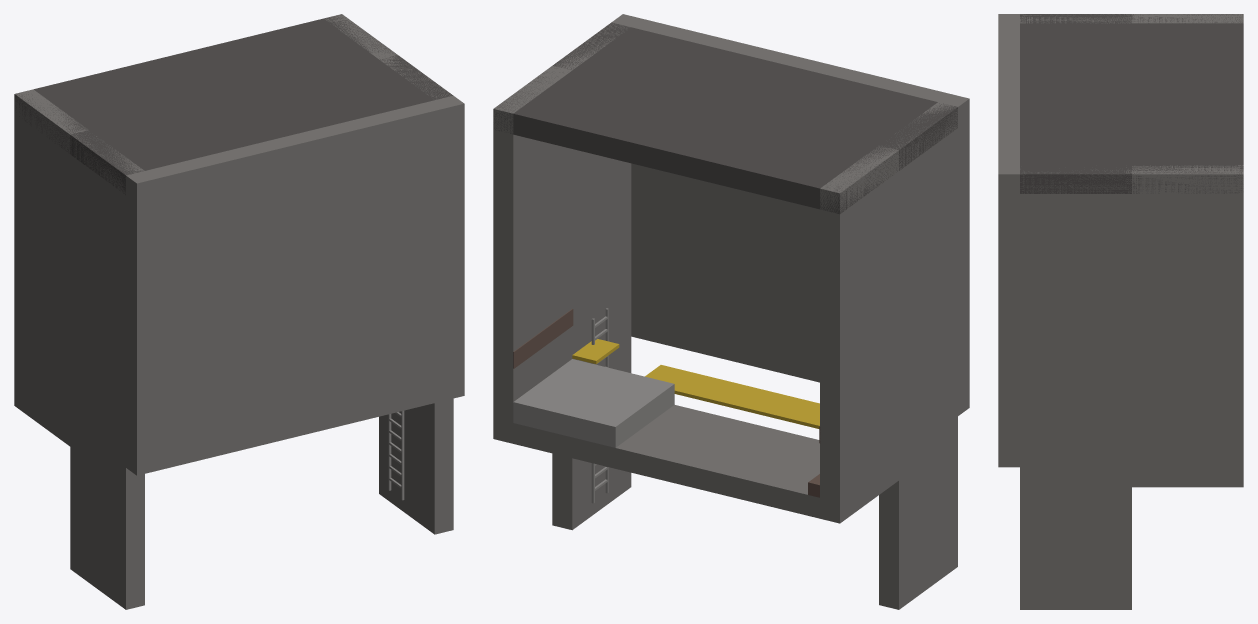
The model's file is B_culvert_drop.glb.
3 renders of one model, left to right at view 1: azimuth 30°, elevation 25°; view 2: azimuth 150°, elevation 25°; view 3: azimuth 270°, elevation 25°, orthographic. The views are drawn at different scales.
Parts seen in each view (by area): view 1: hexa.011, hexa.009, hexa.008, hexa.003, hexa.007, hexa.010, hexa, hexa.005; view 2: hexa.011, hexa.009, hexa.007, hexa.003, hexa.008, hexa.005, hexa, hexa.010, hexa.002, Cube.017, hexa.006, Cube.016; view 3: hexa.010, hexa.005, hexa.008, hexa.007, hexa.011, hexa, hexa.003, hexa.009.
Part boxes in pixels (x1,y1,x2,y2): hexa.011: (126, 95, 464, 475); hexa.009: (70, 132, 144, 609); hexa.008: (70, 55, 452, 194); hexa.003: (14, 89, 88, 444); hexa.007: (15, 14, 395, 153); hexa.010: (379, 55, 453, 534); hexa: (14, 386, 70, 446); hexa.005: (325, 14, 397, 59); hexa.011: (611, 14, 969, 415); hexa.009: (879, 102, 957, 609); hexa.007: (493, 66, 898, 214); hexa.003: (820, 146, 898, 523); hexa.008: (553, 22, 957, 170); hexa.005: (493, 65, 572, 440); hexa: (493, 405, 898, 523); hexa.010: (552, 23, 631, 530); hexa.002: (513, 359, 674, 447); Cube.017: (645, 365, 819, 428); hexa.006: (513, 309, 573, 368); Cube.016: (572, 339, 619, 364); hexa.010: (1020, 167, 1131, 609); hexa.005: (1132, 165, 1243, 487); hexa.008: (1020, 14, 1131, 193); hexa.007: (1132, 14, 1243, 193); hexa.011: (998, 14, 1019, 467); hexa: (1132, 467, 1243, 487); hexa.003: (1132, 14, 1243, 23); hexa.009: (1020, 14, 1131, 23).
Bounding box in the file's own units: 8.68 × 11 × 5.62.
